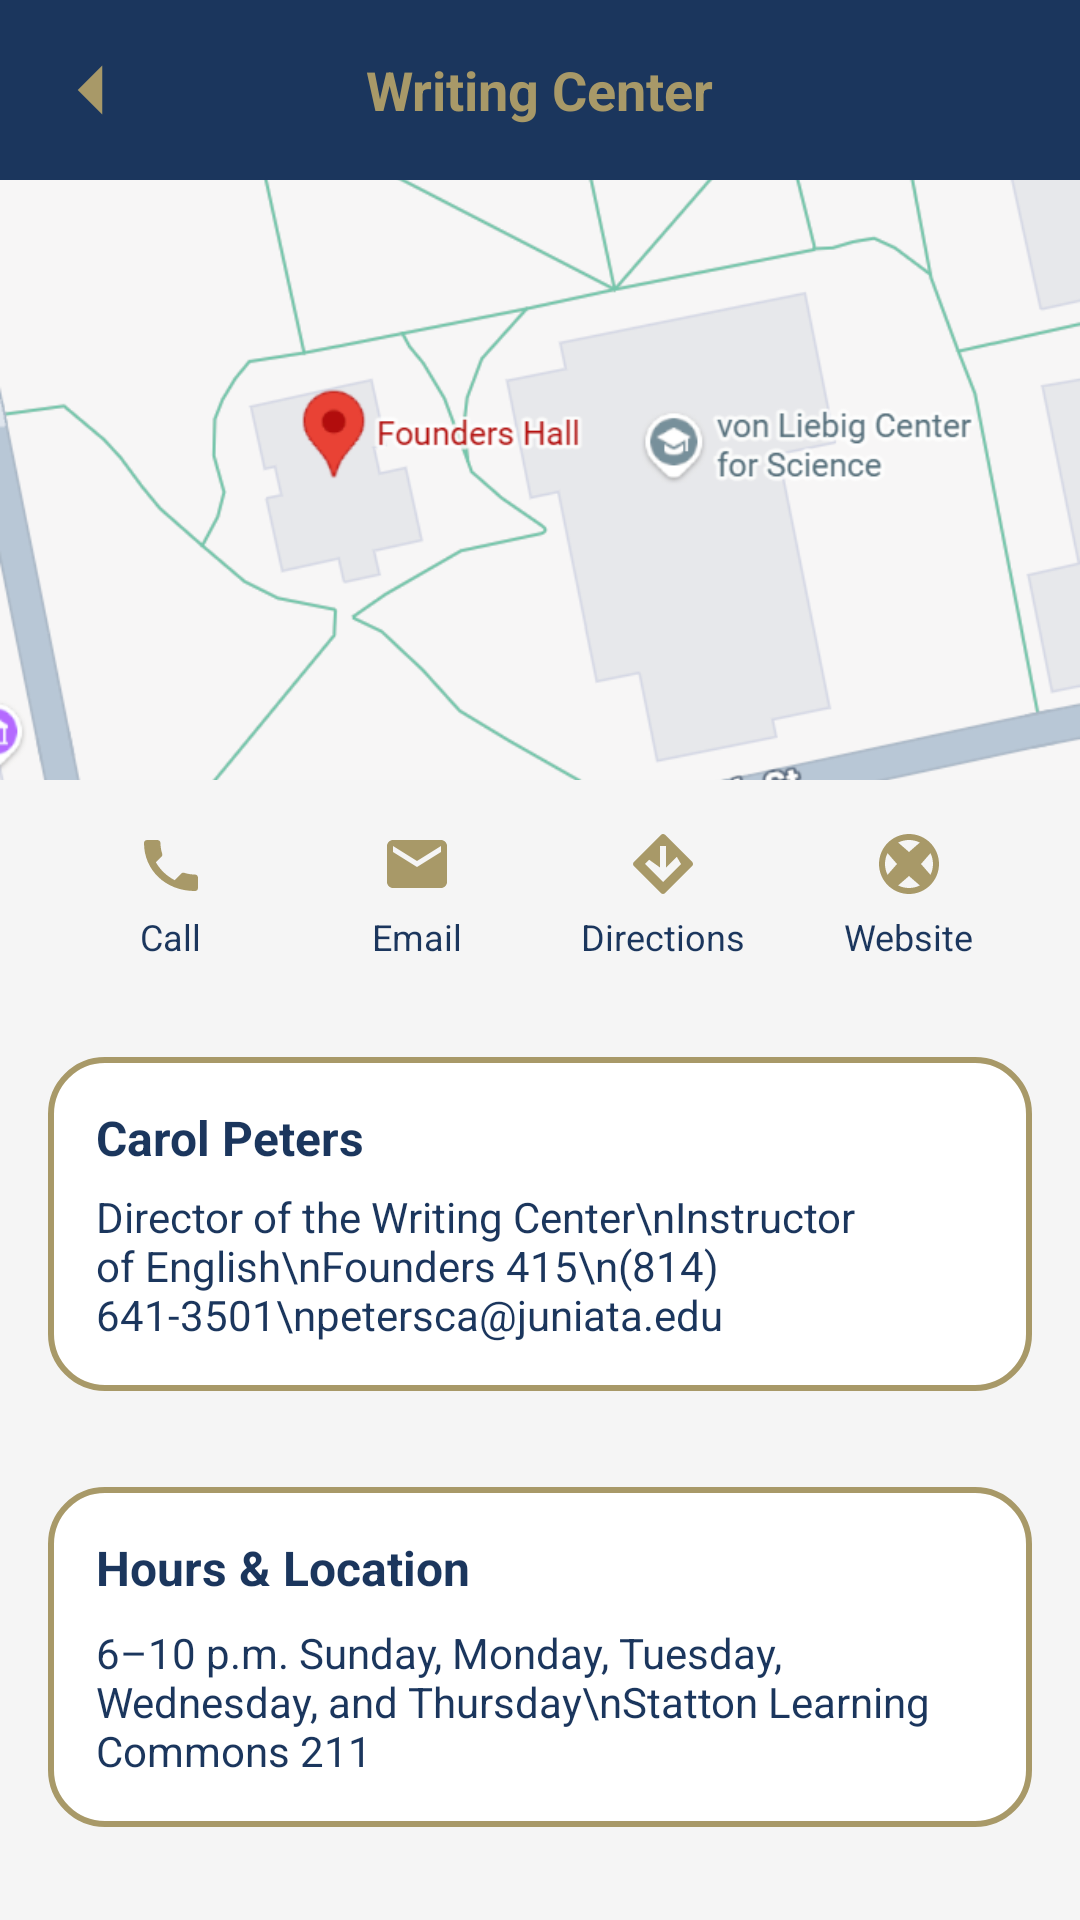

Icon bounding boxes for this 1080 x 1920 phone screenshot, format box=[x1, y1, x2, y2]:
back: box=[78, 66, 103, 114]
